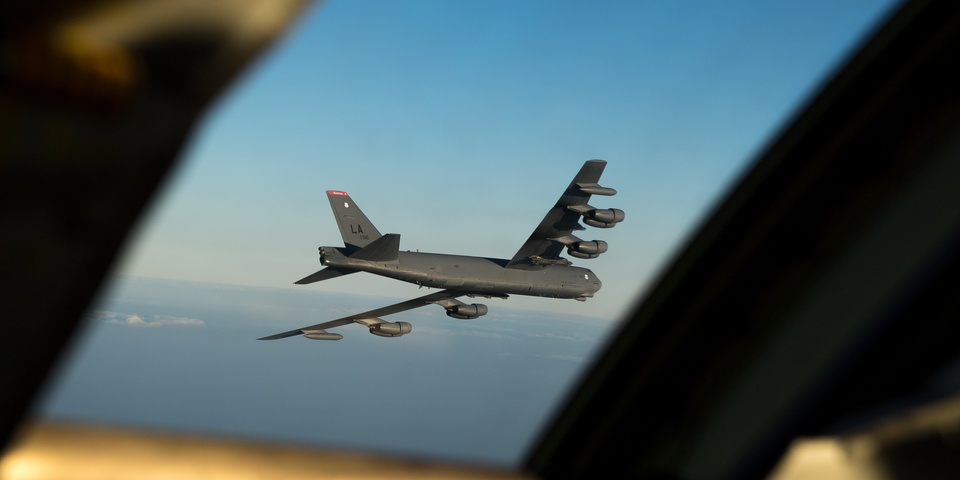B52: (255, 157, 627, 341)
